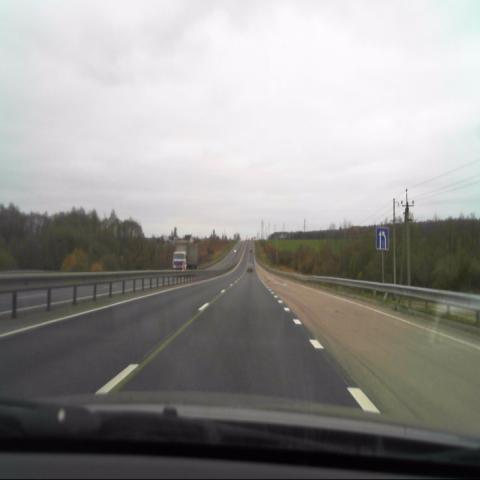5_15_5: (376, 228, 388, 250)
